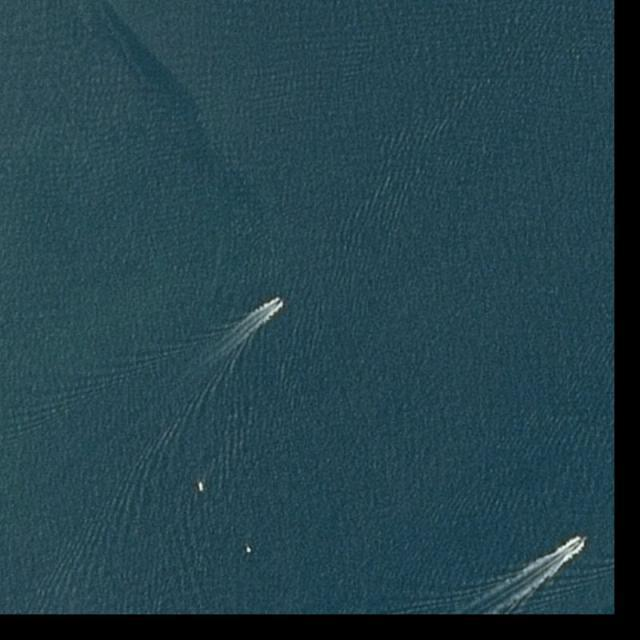ship: (570, 536, 585, 551), (271, 298, 283, 310), (197, 479, 206, 494), (244, 545, 254, 554)
